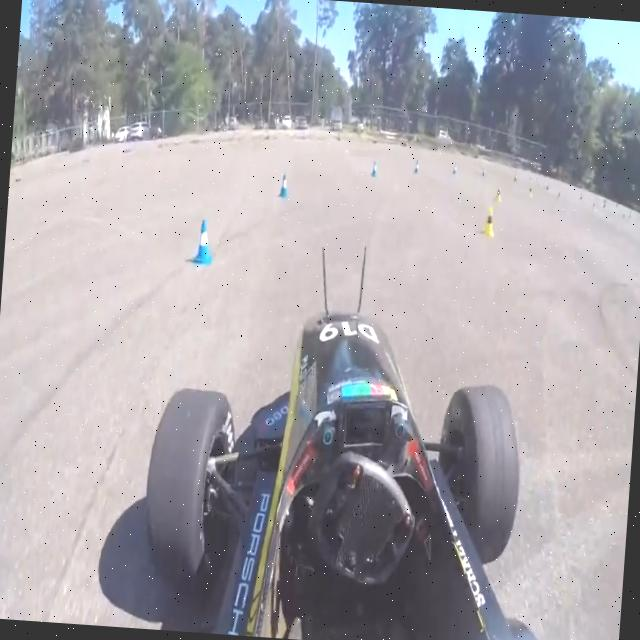blue_cone: (192, 216, 214, 266), (279, 172, 290, 198)
yellow_cone: (482, 205, 497, 237)
